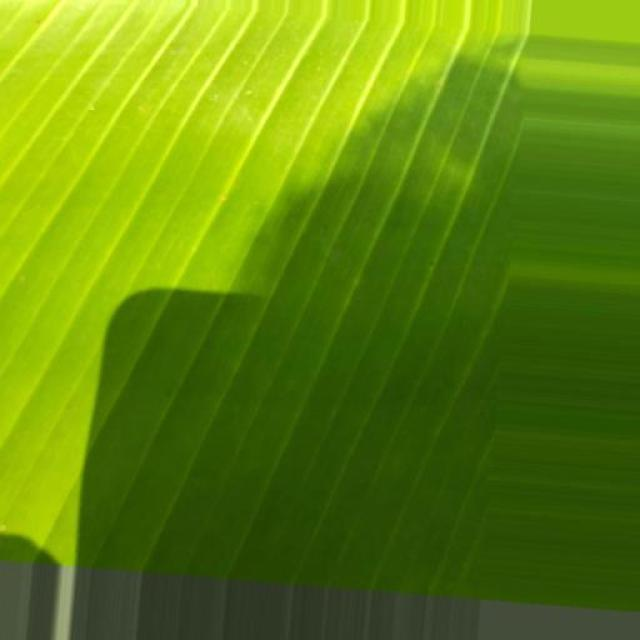Black_leaf_spot: (0, 0, 546, 570)
